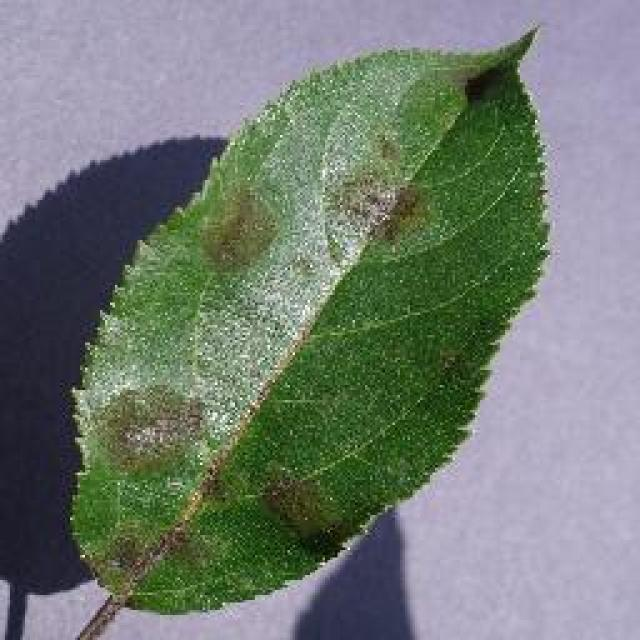apple scab disease: (60, 20, 552, 615)
